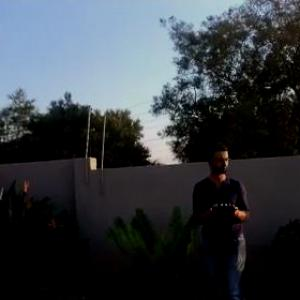follow: (189, 134, 257, 299)
